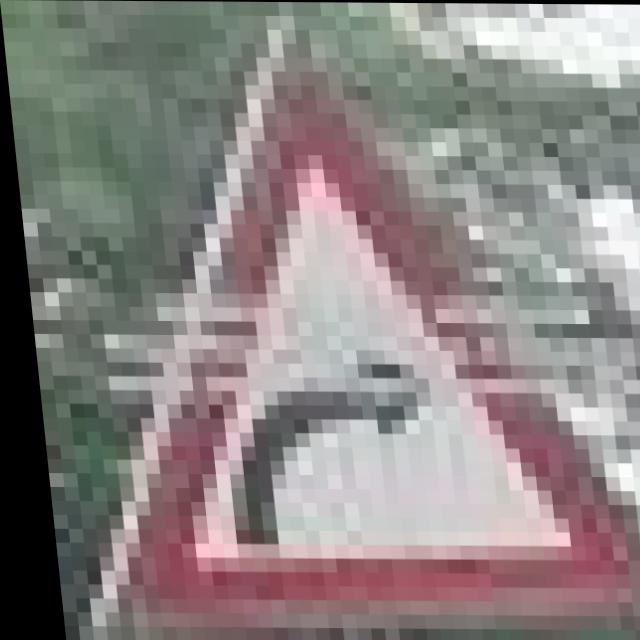RIGHT_HAND_CURVE: (33, 58, 640, 624)
